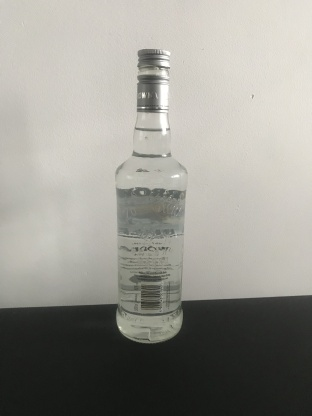nakretka: (135, 46, 171, 113)
